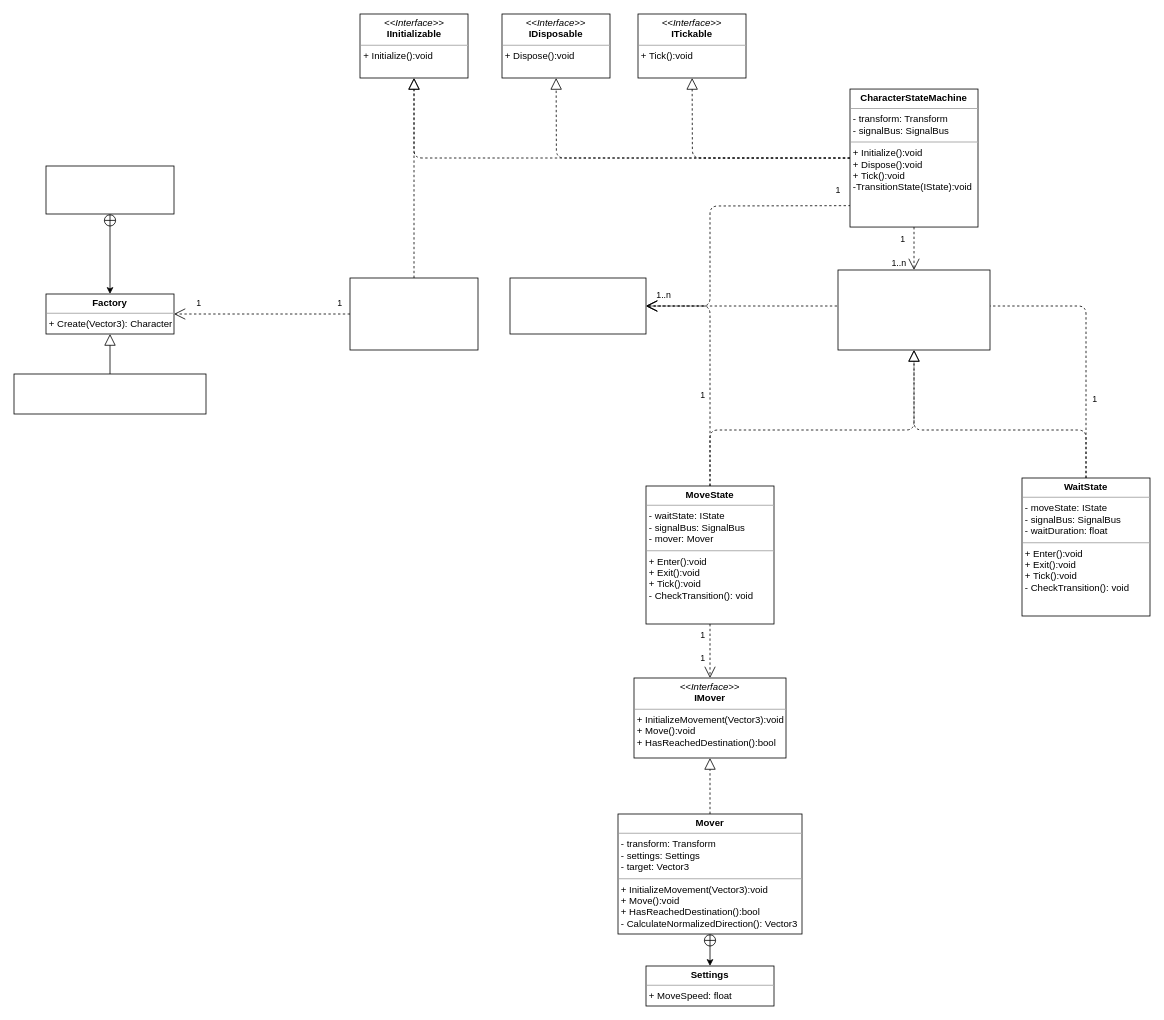
The diagram is 1164 pixels wide and 1020 high, and some of its shapes have lost their labels. The shapes that lost their labels are listed below. From the top down, each one's centre as x and y in pixels, then its label:
pixel 109 189: Character - transform: Transform
pixel 413 313: CharacterSpawner - transform: Transform + Initialize():void
pixel 577 305: StateChangeSignal + <<get>> TargetState: IState - <<set>> targetState: IState
pixel 913 309: <<Interface>> IState + Enter():void + Exit():void + Tick():void
pixel 109 393: PlaceholderFactory<Vector3, Character> + Create(Vector3): Character
